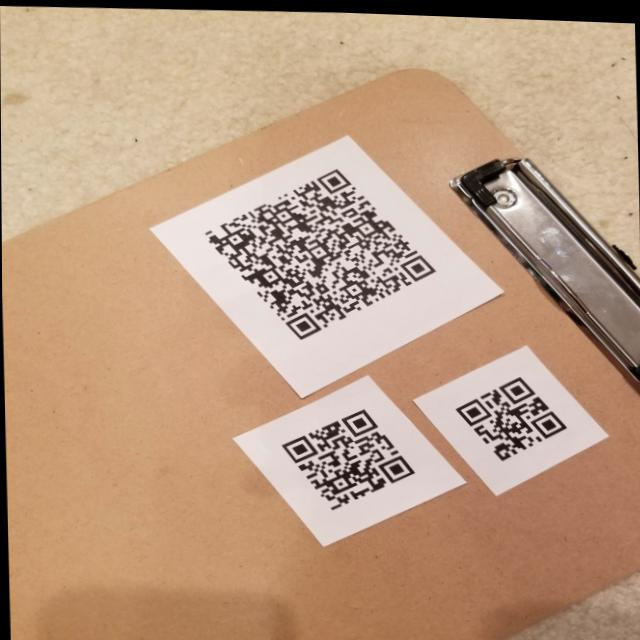QR_CODE: (192, 149, 446, 350), (264, 391, 430, 519), (444, 364, 581, 469)
